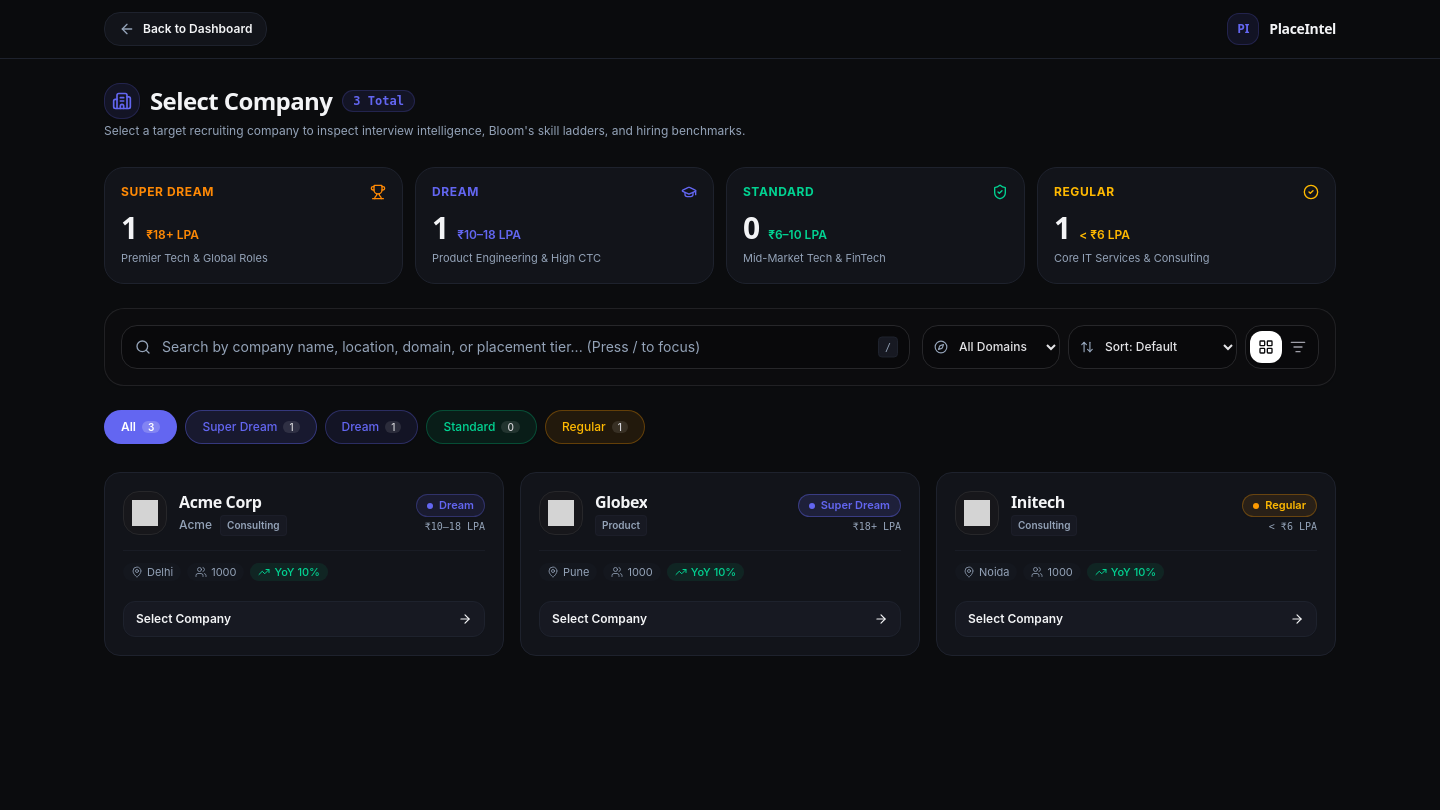
CompanyPickerPage › switches to the table view
Click the button named "Table view": x=1298, y=346 [1282,330,1314,362]
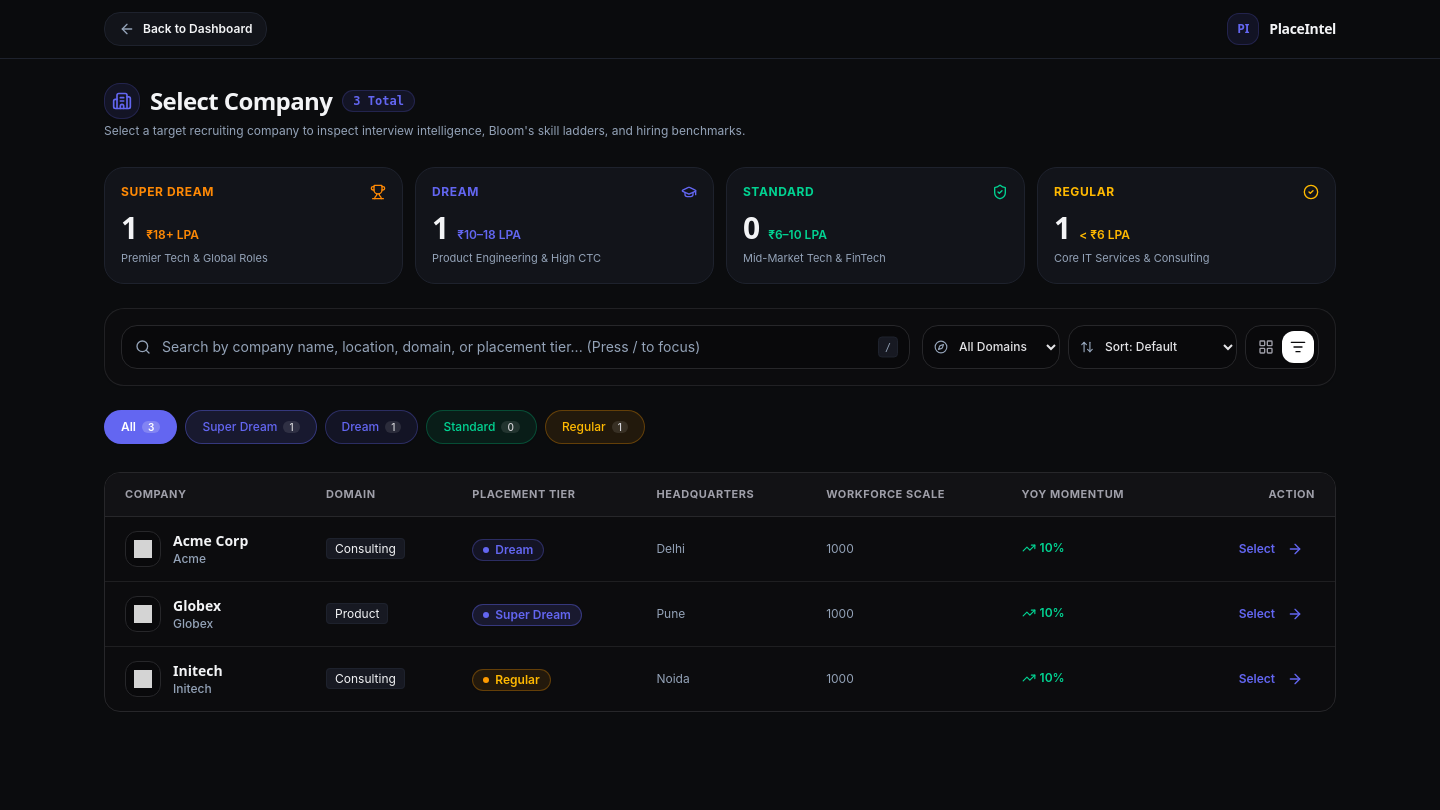
Expected: the number of rows is 4, [105,472,1335,517]; [105,517,1335,582]; [105,582,1335,647]; [105,647,1335,711]
